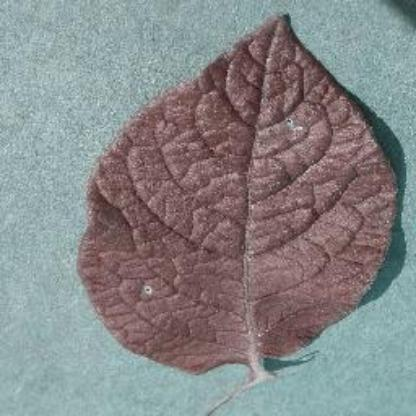Healthy-plant: (72, 10, 400, 388)
